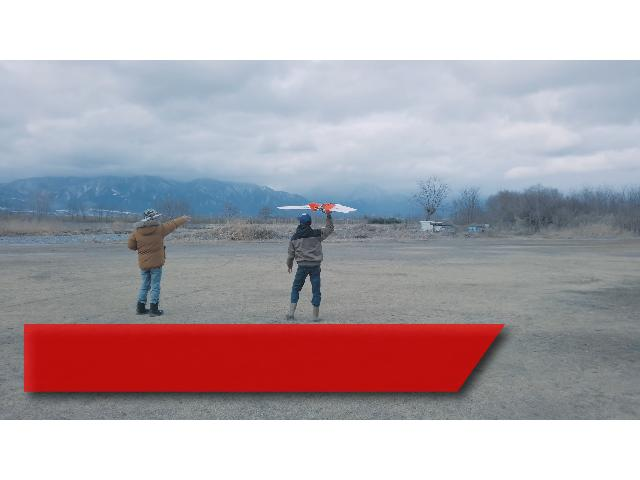Anti-Drone: (276, 199, 360, 214)
